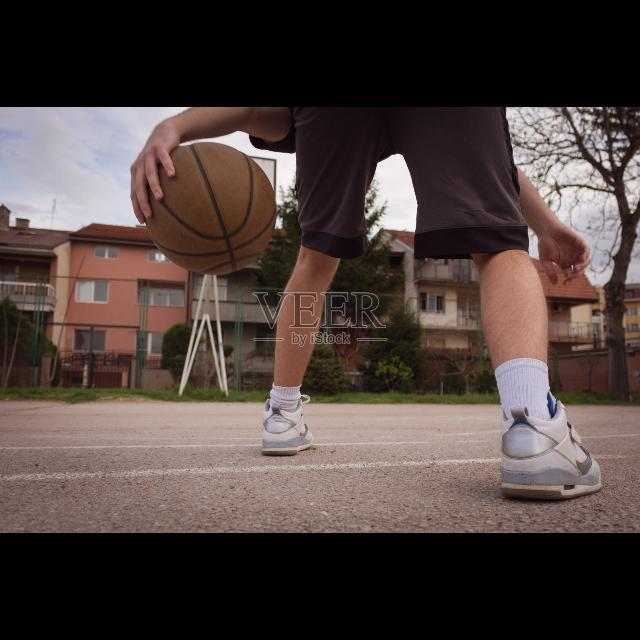basketball: (144, 143, 276, 274)
